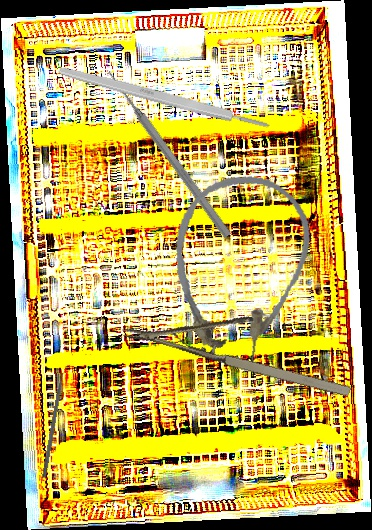Cannula: (157, 165, 319, 374)
Chopper: (41, 366, 72, 480)
Needle Holder: (120, 282, 363, 404)
Pusher: (103, 67, 234, 240)
Scalpel Handle: (57, 64, 271, 133)
